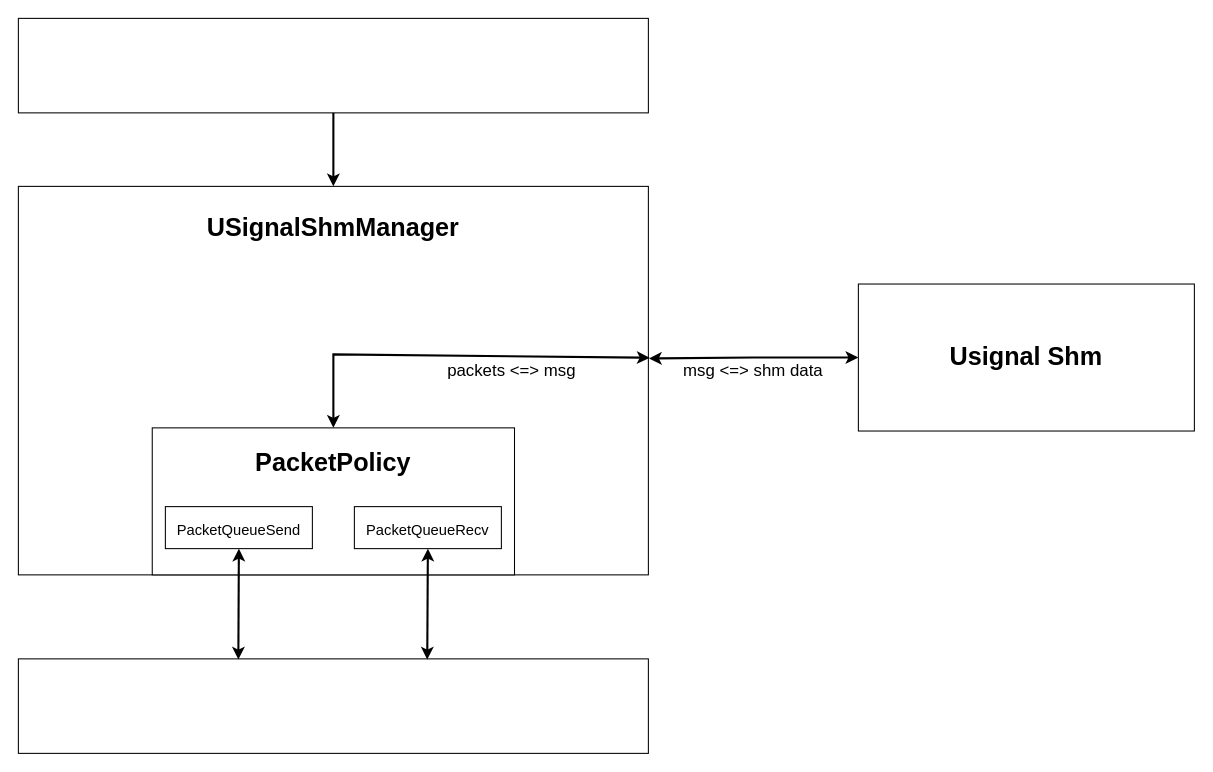
This 1213x772 diagram has some shape labels left out. Each missing label, with the centre of its shape:
"DataPortal" goes at point (332, 705).
"OpUSignalShm" goes at point (332, 65).
